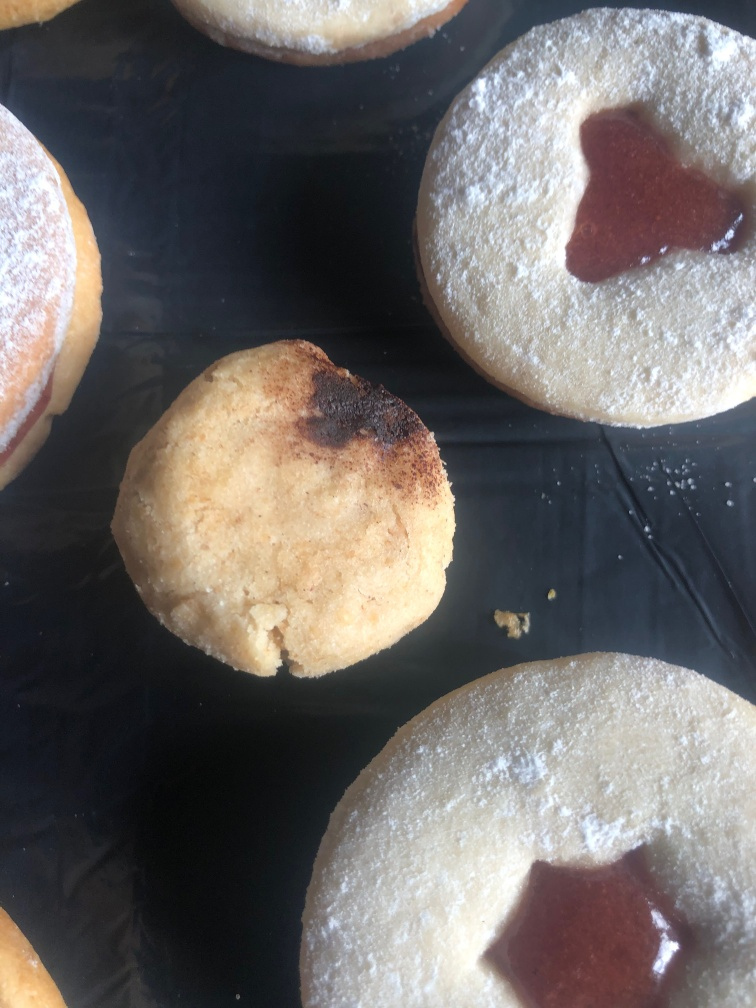christmas shortbread with jam: (303, 651, 756, 1008), (417, 5, 756, 430)
snowball: (121, 336, 455, 690)
